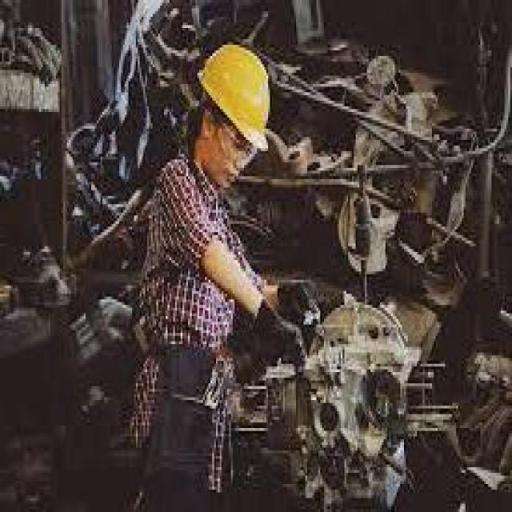helmet: (197, 39, 274, 154)
